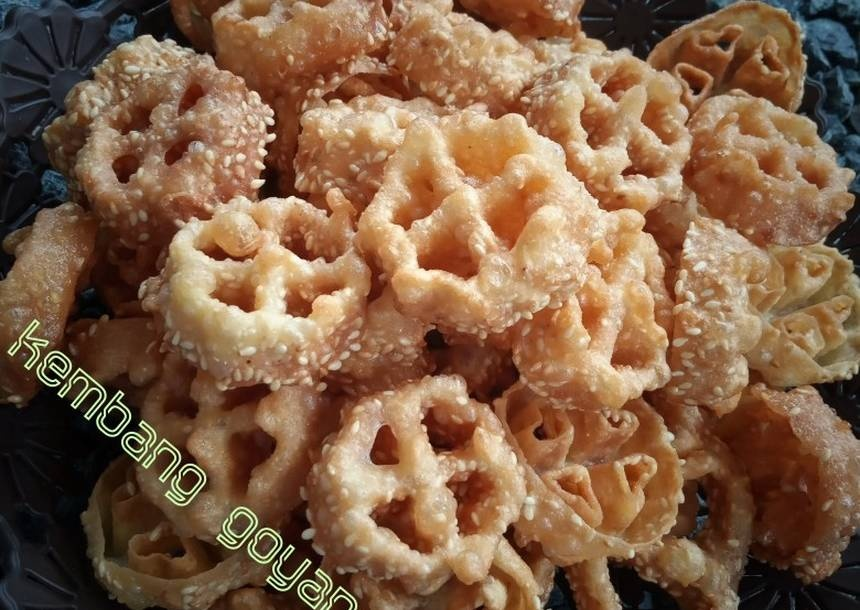kembang_goyang: (325, 121, 572, 358)
